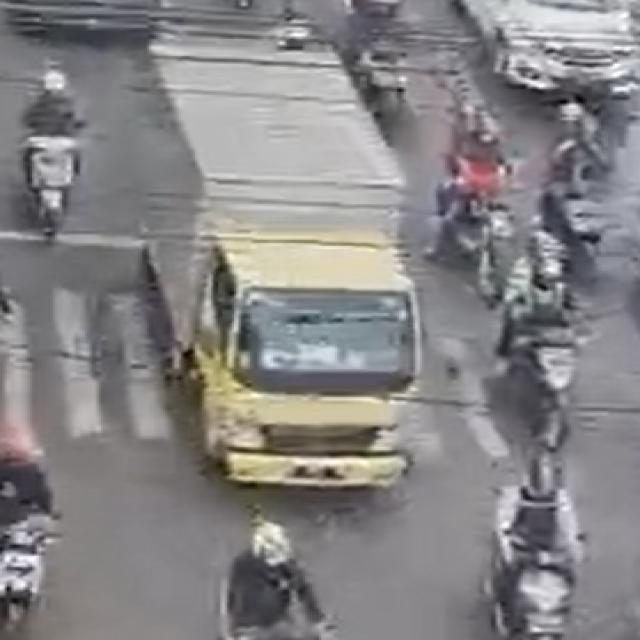Truck: (133, 32, 438, 510)
